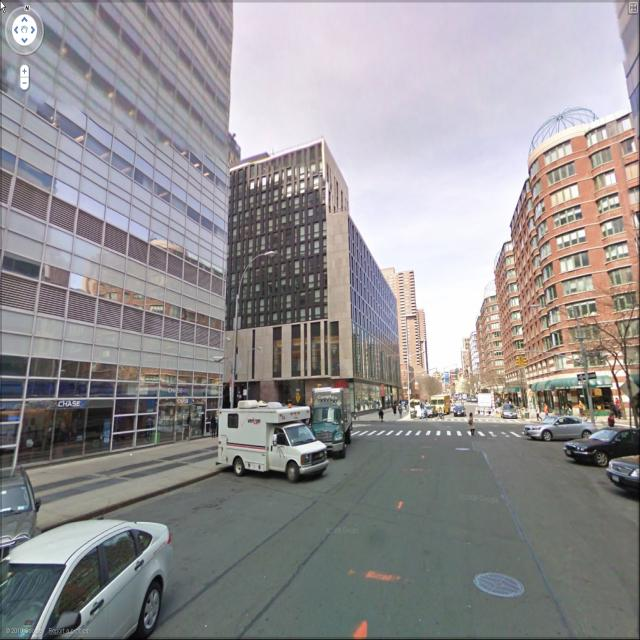b_1: (3, 1, 225, 409), (529, 101, 640, 374), (223, 153, 335, 375), (333, 216, 397, 399), (396, 266, 432, 394), (495, 242, 521, 392), (476, 282, 502, 382)
b_2: (527, 140, 640, 435)
